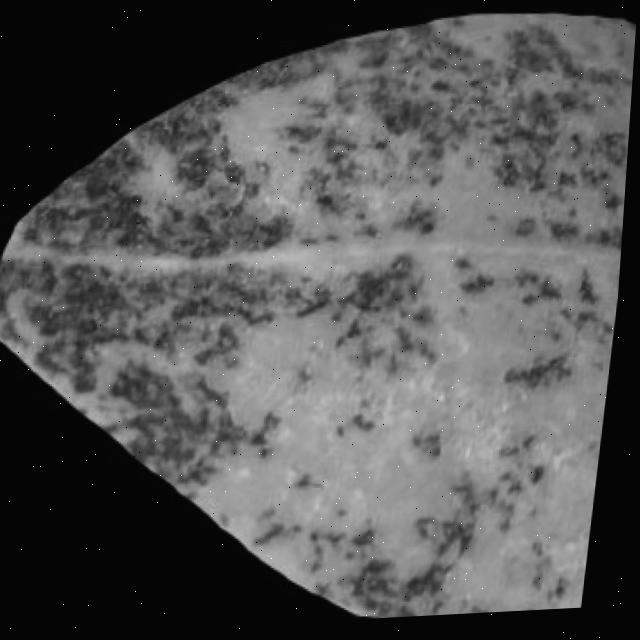mite: (462, 275, 500, 299), (576, 279, 604, 310), (353, 413, 382, 434)
spots: (0, 10, 638, 627)
